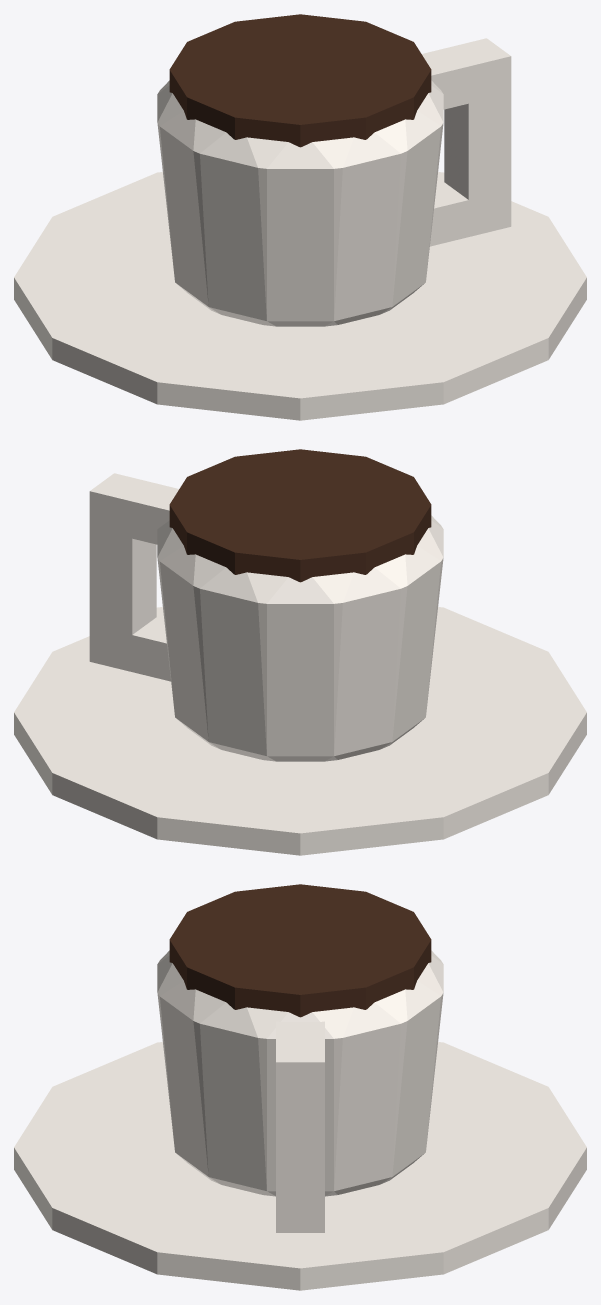
The model's file is CatCafe_Decor_Cup.glb.
3 views of the same model, one above another, from view 1: azimuth 30°, elevation 25°; view 2: azimuth 150°, elevation 25°; view 3: azimuth 270°, elevation 25° (orthographic).
Visible parts, largest first — view 1: CatCafe_Decor_Cup; view 2: CatCafe_Decor_Cup; view 3: CatCafe_Decor_Cup.
Boxes of the visible parts, <box> form: CatCafe_Decor_Cup: <box>14,14,586,420</box>; CatCafe_Decor_Cup: <box>14,449,586,855</box>; CatCafe_Decor_Cup: <box>14,884,586,1290</box>.
Size of the model in its own units: 0.7 by 0.31 by 0.7.
1 material, 1 textured.
